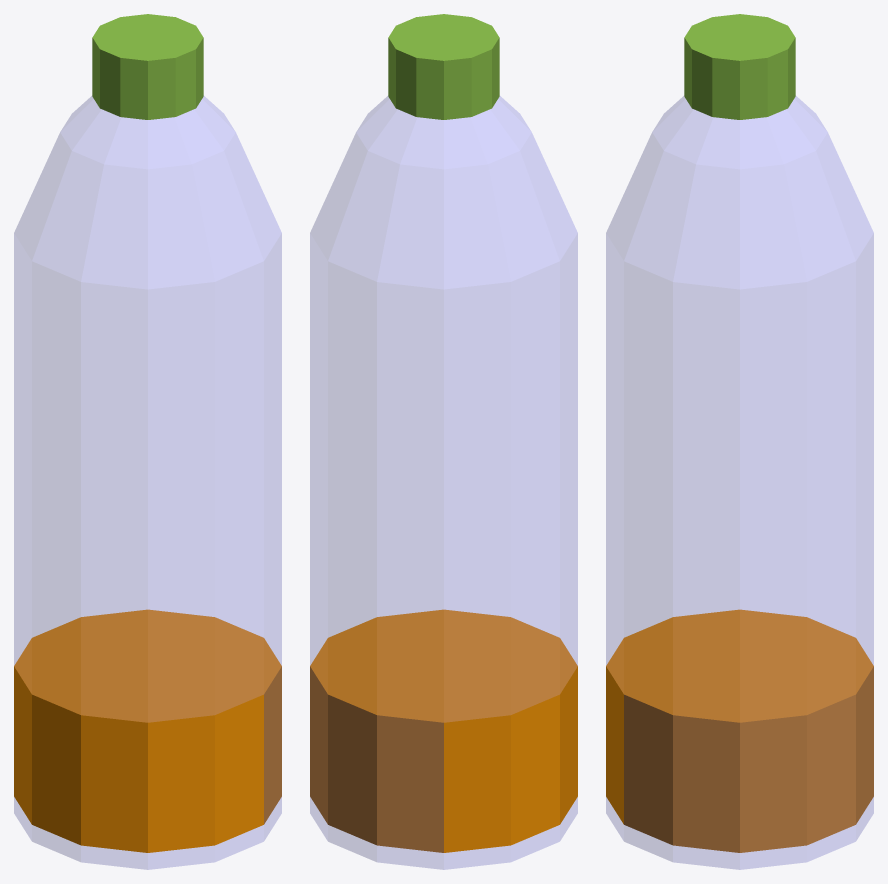
3 views of the same model, side by side, from view 1: azimuth 30°, elevation 25°; view 2: azimuth 150°, elevation 25°; view 3: azimuth 270°, elevation 25° (orthographic).
Parts seen in each view (by area): view 1: node_MeshObject-1463963648-PolyGlass24, node_MeshObject-995241984-PolyPaper21; view 2: node_MeshObject-1463963648-PolyGlass24, node_MeshObject-995241984-PolyPaper21; view 3: node_MeshObject-1463963648-PolyGlass24, node_MeshObject-995241984-PolyPaper21.
Part boxes in pixels (x1,y1,x2,y2): node_MeshObject-1463963648-PolyGlass24: (14,96,281,869); node_MeshObject-995241984-PolyPaper21: (14,14,281,852); node_MeshObject-1463963648-PolyGlass24: (310,96,577,869); node_MeshObject-995241984-PolyPaper21: (310,14,577,852); node_MeshObject-1463963648-PolyGlass24: (606,96,873,869); node_MeshObject-995241984-PolyPaper21: (606,14,873,852).
Bounding box in the file's own units: 0.41 × 1.31 × 0.41.
